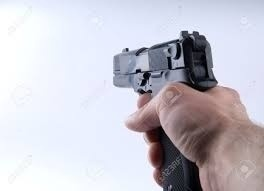pistol: (104, 34, 225, 125)
